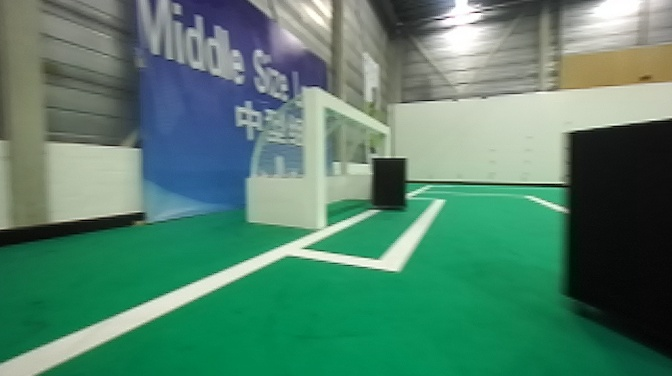goalpost: (303, 87, 325, 227), (382, 127, 399, 159)
